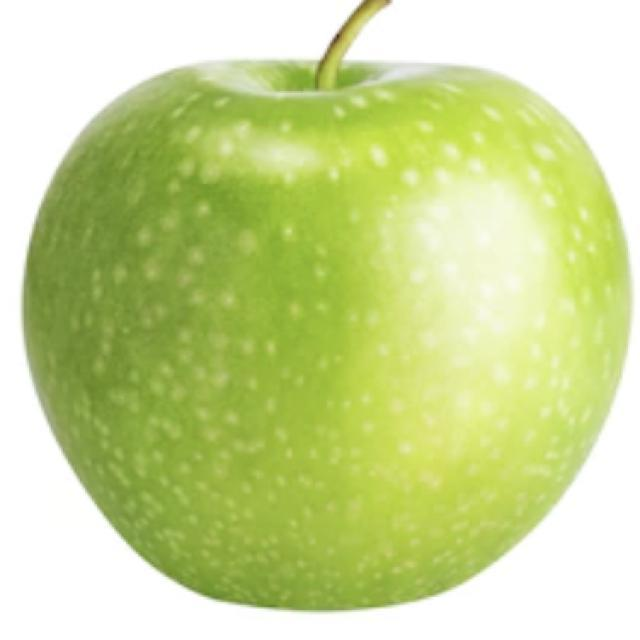Fresh Apple: (26, 53, 640, 611)
